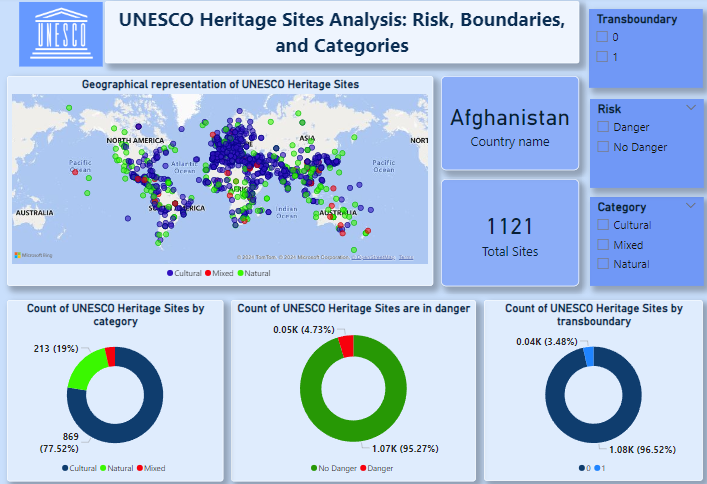

This screenshot's page, from the dashboard's own definition file:
{"tool":"powerbi","page":{"name":"Dashboard 2","canvas":[1200,830],"ordinal":1},"visuals":[{"type":"map","title":"Geographical representation of UNESCO Heritage Sites","fields":{"Category":["sites inscribed properties XLS.location"],"Series":["sites inscribed properties XLS.category"]},"box":[13.5,133.3,718.7,354.3],"z":1000},{"type":"slicer","fields":{"Values":["sites inscribed properties XLS.category"]},"box":[996.8,336.9,191.8,150.3],"z":2000},{"type":"slicer","fields":{"Values":["sites inscribed properties XLS.Sites are in danger"]},"box":[995.1,172.8,191.8,134.8],"z":3000},{"type":"slicer","fields":{"Values":["sites inscribed properties XLS.transboundary"]},"box":[995.1,20.7,191.8,133],"z":4000},{"type":"card","fields":{"Values":["CountNonNull(sites inscribed properties XLS.name_en)"]},"box":[745.7,307,232.8,180.5],"z":5000},{"type":"donutChart","title":"Count of UNESCO Heritage Sites are in danger","fields":{"Category":["sites inscribed properties XLS.Sites are in danger"],"Y":["CountNonNull(sites inscribed properties XLS.name_en)"]},"box":[392.2,511.4,412.9,305.8],"z":6000},{"type":"donutChart","title":"Count of UNESCO Heritage Sites by category","fields":{"Category":["sites inscribed properties XLS.category"],"Y":["CountNonNull(sites inscribed properties XLS.country_name)"]},"box":[13.8,511.4,364.5,305.8],"z":7000},{"type":"donutChart","title":"Count of UNESCO Heritage Sites by transboundary","fields":{"Category":["sites inscribed properties XLS.transboundary"],"Y":["CountNonNull(sites inscribed properties XLS.name_en)"]},"box":[827.5,511.4,359.3,305.8],"z":8000},{"type":"card","fields":{"Values":["Min(sites inscribed properties XLS.country_name)"]},"box":[745.7,133.3,232.8,158.6],"z":9000},{"type":"textbox","box":[178.8,6.7,799.6,104.6],"z":10000},{"type":"image","box":[0,3,209.2,119],"z":11000}]}

Visuals, with their boxes in screenshot pixels (x1, y1, x2, y2), scaled from the page's 1200x830 canvas onto the 707x484 screenshot:
"Geographical representation of UNESCO Heritage Sites" map: crop(8, 78, 431, 284)
slicer - sites inscribed properties XLS.category: crop(587, 196, 700, 284)
slicer - sites inscribed properties XLS.Sites are in danger: crop(586, 101, 699, 179)
slicer - sites inscribed properties XLS.transboundary: crop(586, 12, 699, 90)
card - CountNonNull(sites inscribed properties XLS.name_en): crop(439, 179, 576, 284)
"Count of UNESCO Heritage Sites are in danger" donutChart: crop(231, 298, 474, 477)
"Count of UNESCO Heritage Sites by category" donutChart: crop(8, 298, 223, 477)
"Count of UNESCO Heritage Sites by transboundary" donutChart: crop(488, 298, 699, 477)
card - Min(sites inscribed properties XLS.country_name): crop(439, 78, 576, 170)
textbox: crop(105, 4, 576, 65)
image: crop(0, 2, 123, 71)
